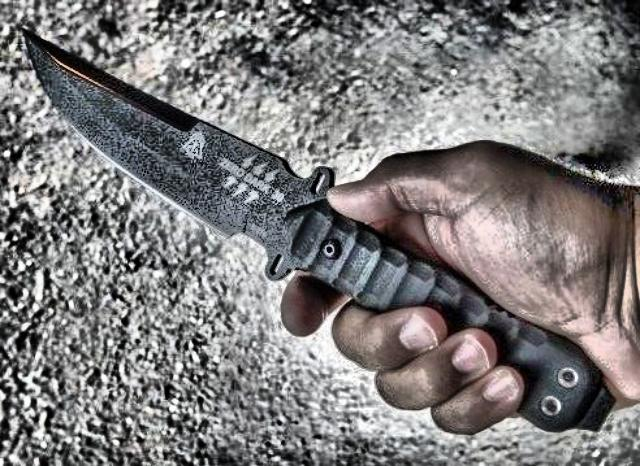knife: (10, 16, 392, 326)
